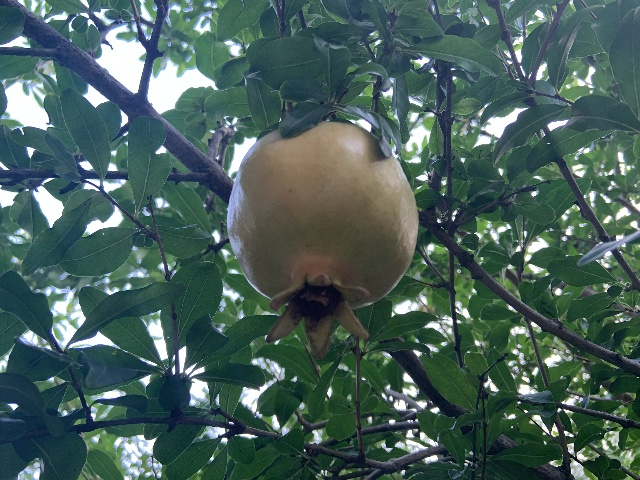mid-growth: (230, 122, 419, 360)
